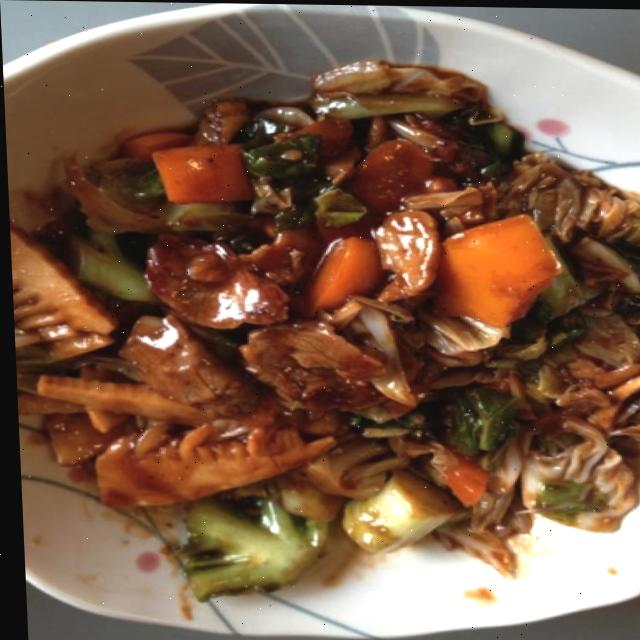猪肉菜式: (1, 25, 640, 638)
